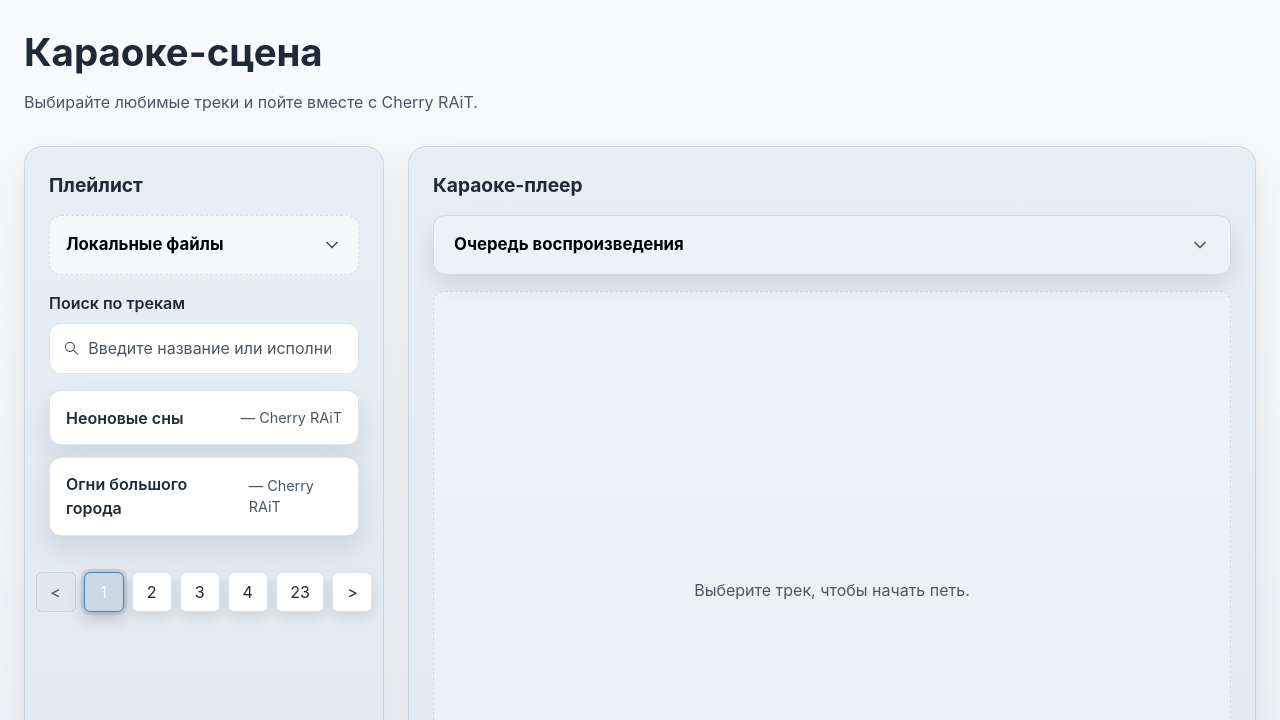
Scenario: фильтрует треки по исполнителю и показывает пустой результат
Step 1. Type "Cherry" into the search field labelled "Поиск по трекам" → (217, 348), box x1=88 y1=333 x2=346 y2=364
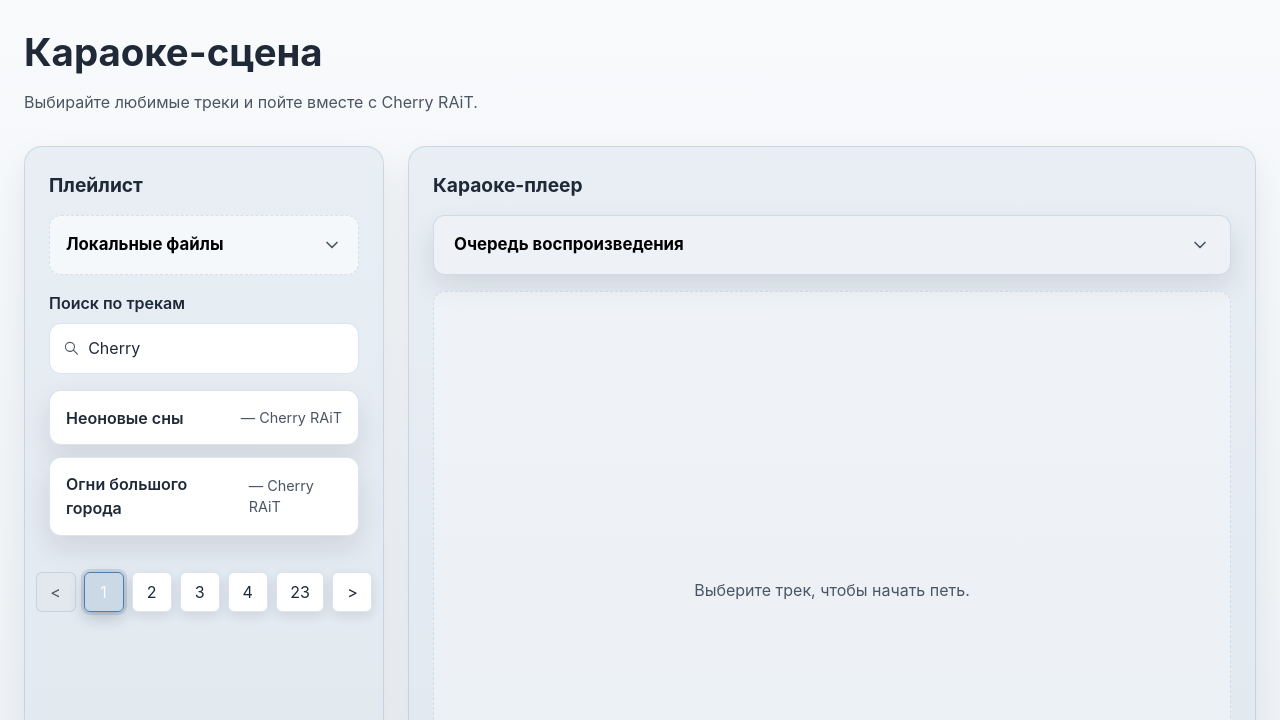
Step 2. Replace the text in the search field labelled "Поиск по трекам" with "несуществующий артист" → (217, 348), box x1=88 y1=333 x2=346 y2=364
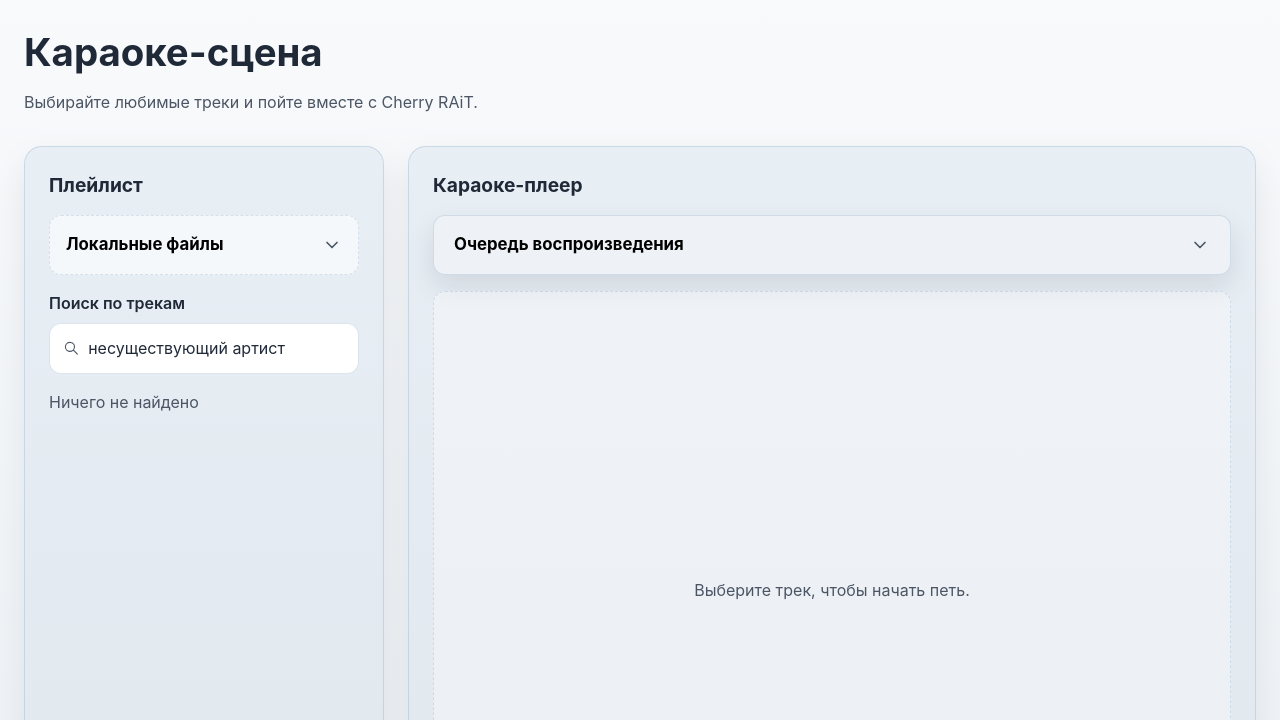
Expected: the text "Ничего не найдено" is shown, x1=49 y1=392 x2=199 y2=412
